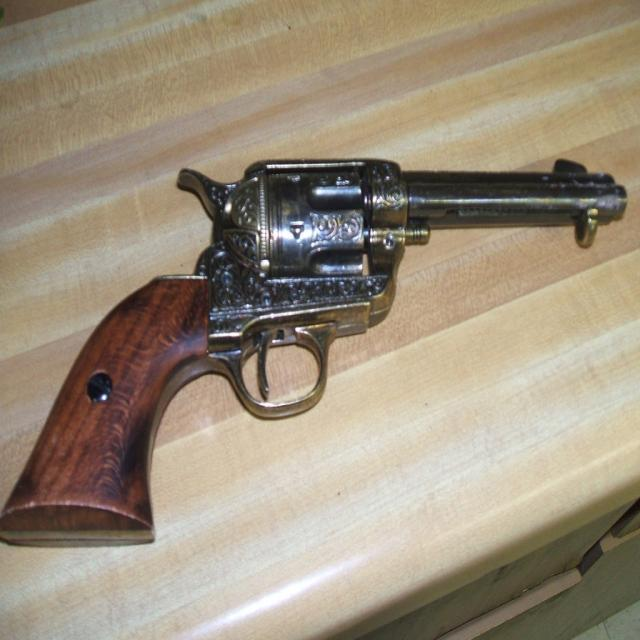Gun: (0, 159, 626, 544)
